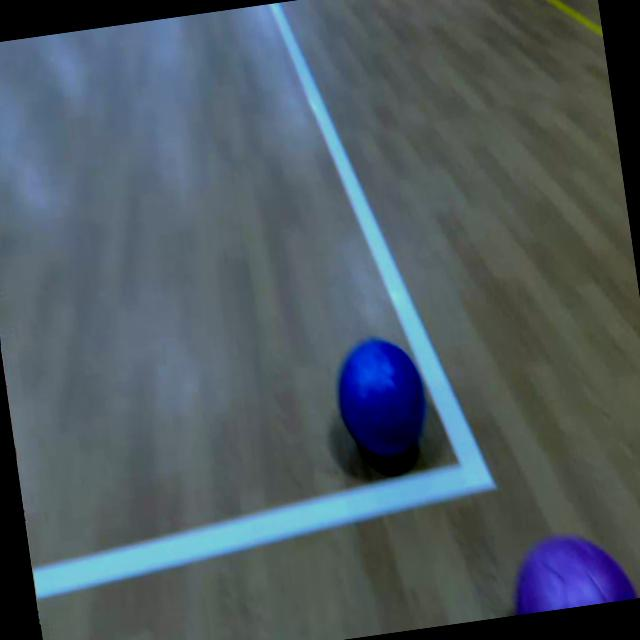blue_ball: (330, 330, 438, 470)
purple_ball: (505, 526, 640, 615)
